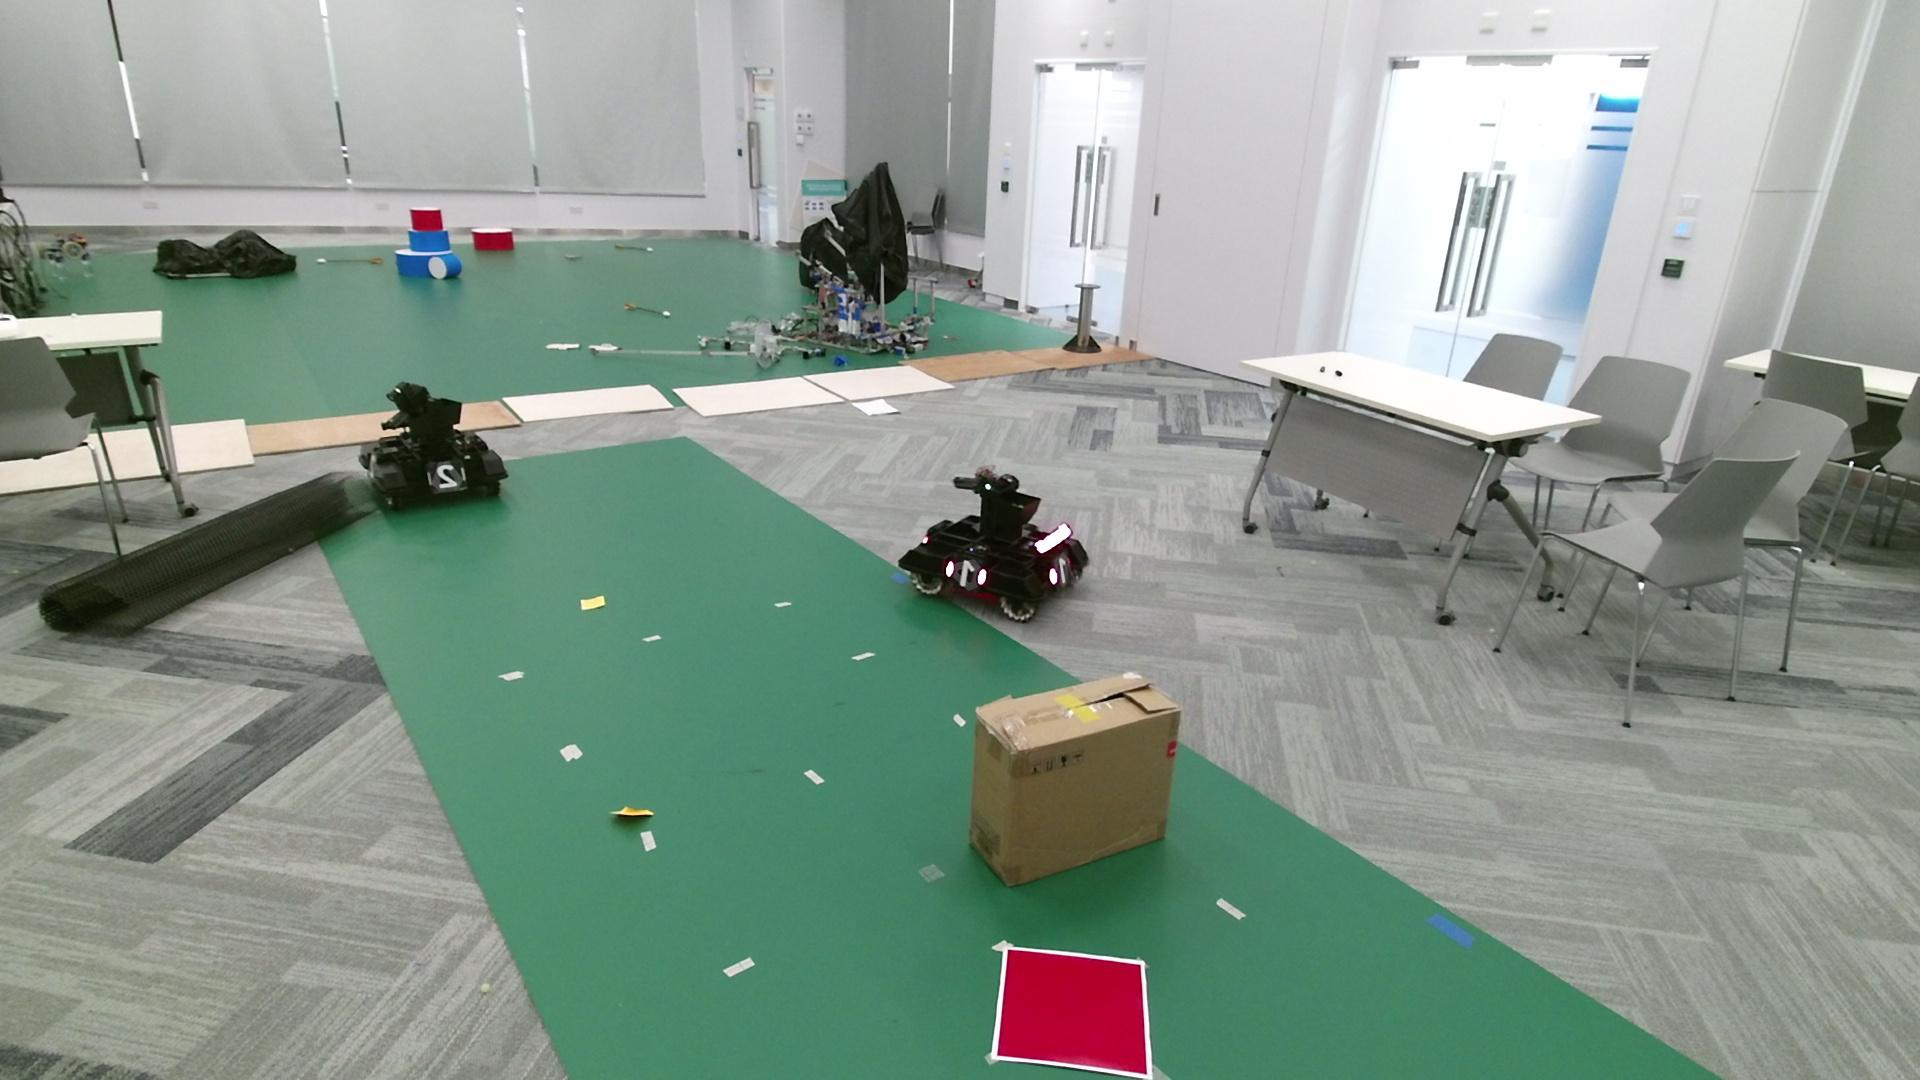robot: (895, 463, 1091, 624), (357, 380, 509, 512)
